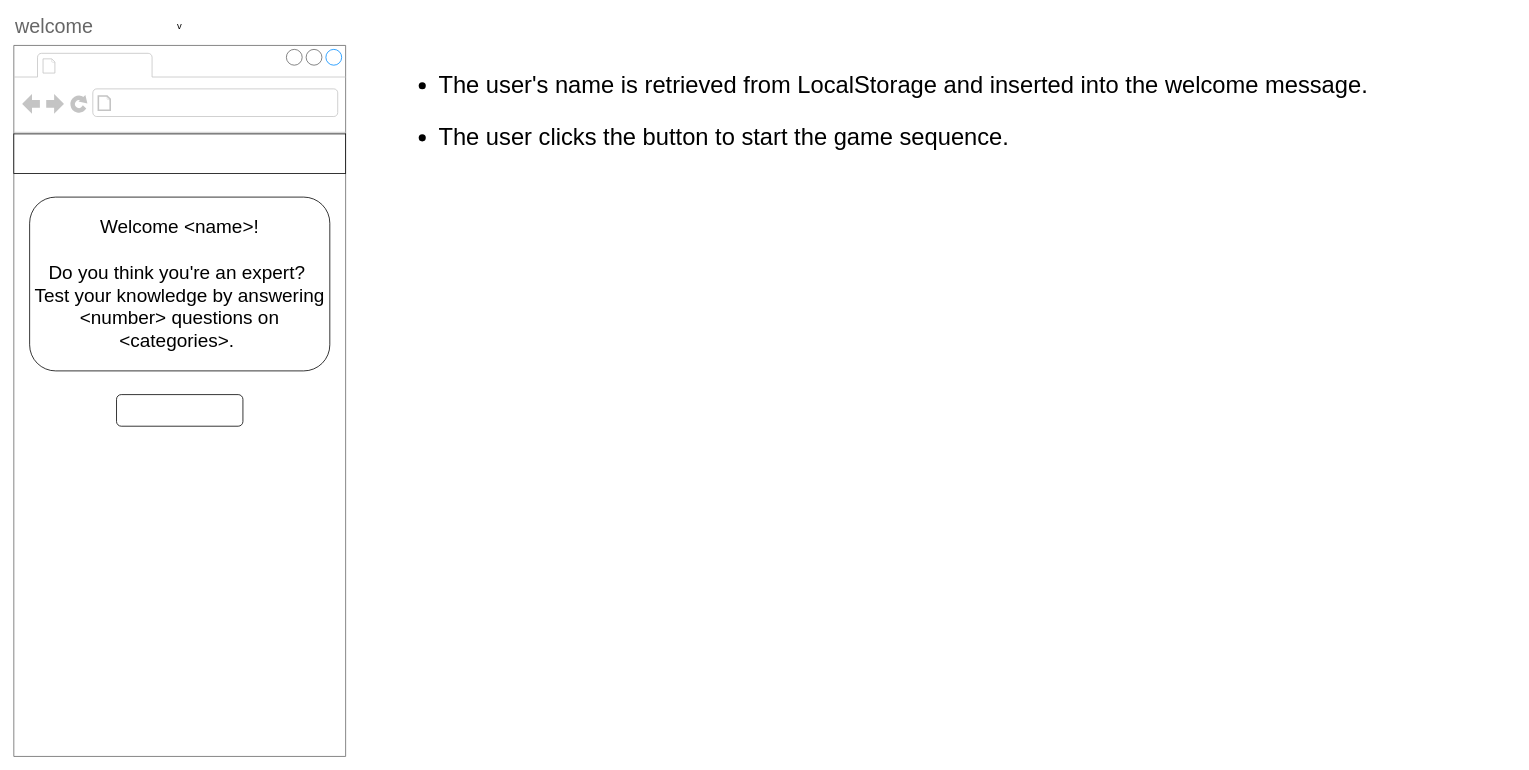
Image size: 1529x770. Some labels were removed from this diagram. Here are the shapes that lost their labels. From the top down, the centre of each, then its label:
At [179,153]: "App Name".
At [179,410]: "Go!".
